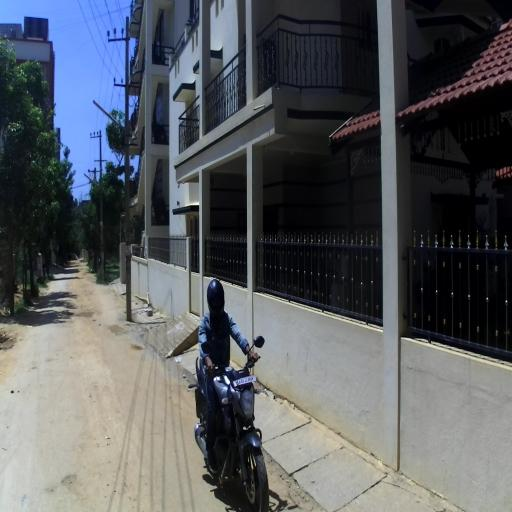street_light_0: (93, 100, 130, 154), (84, 173, 102, 197)
